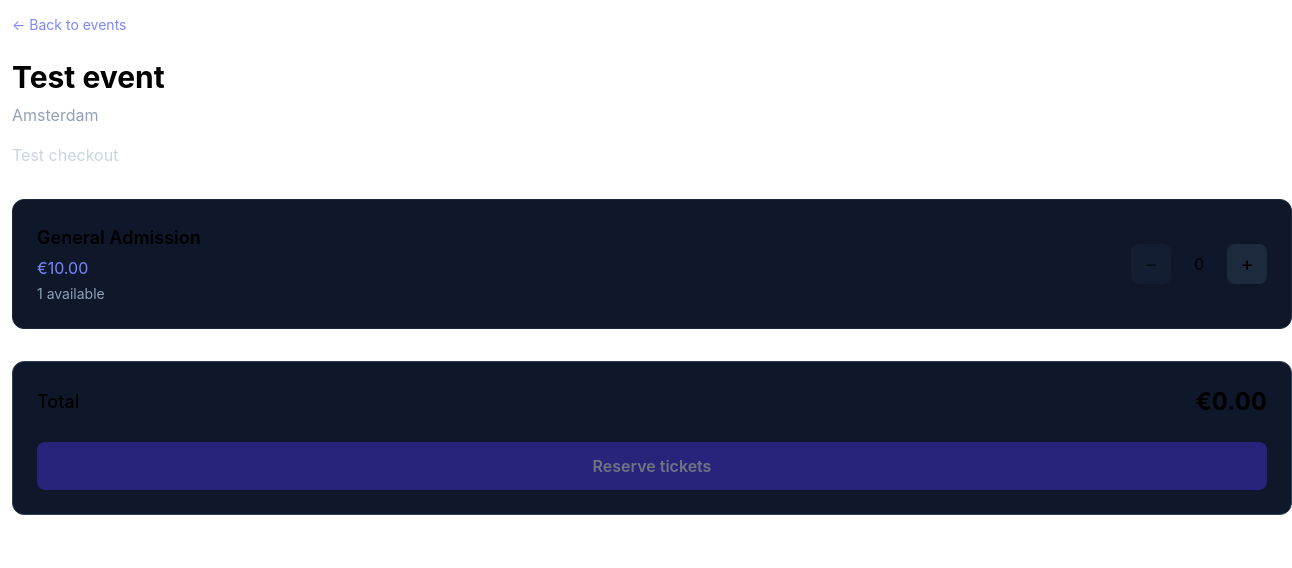
Test: Checkout recovery › ignores an older availability response even if fetch ignores cancellation
The width and height of the screenshot is (1292, 568).
Click the button "+".
click(1247, 264)  # box [1227, 244, 1267, 284]
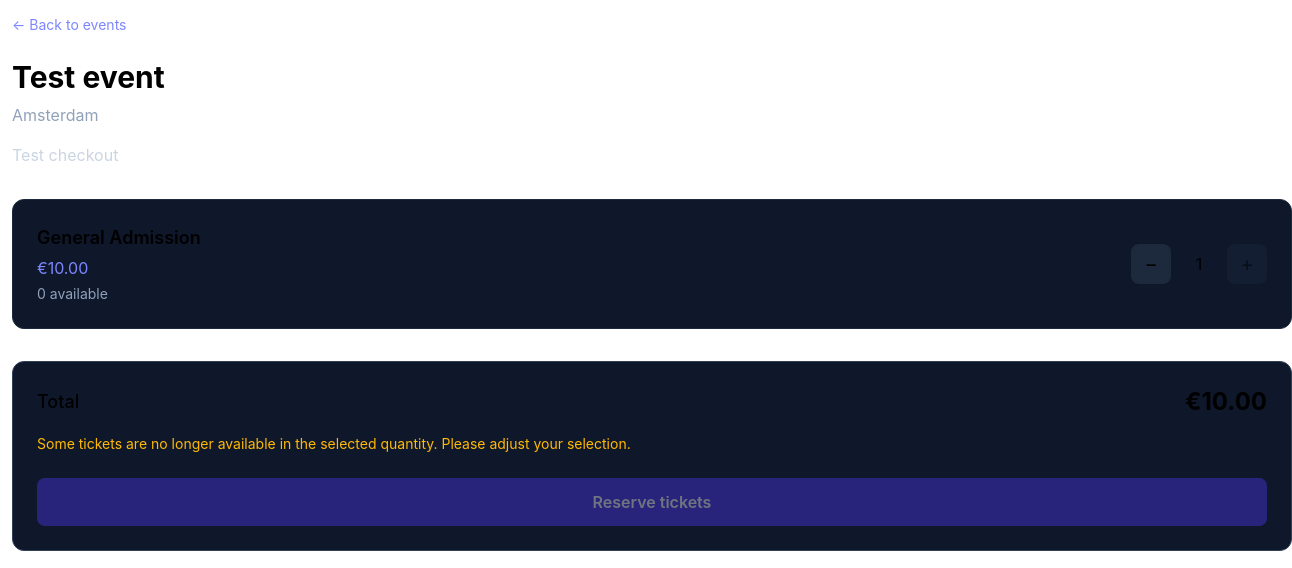
Expected: the button "Reserve tickets" is disabled, [37, 478, 1267, 526]
Result: the text "0 available" is shown at [37, 285, 108, 302]
Result: the text named "General Admission quantity" reads "1" at [1196, 254, 1202, 274]
